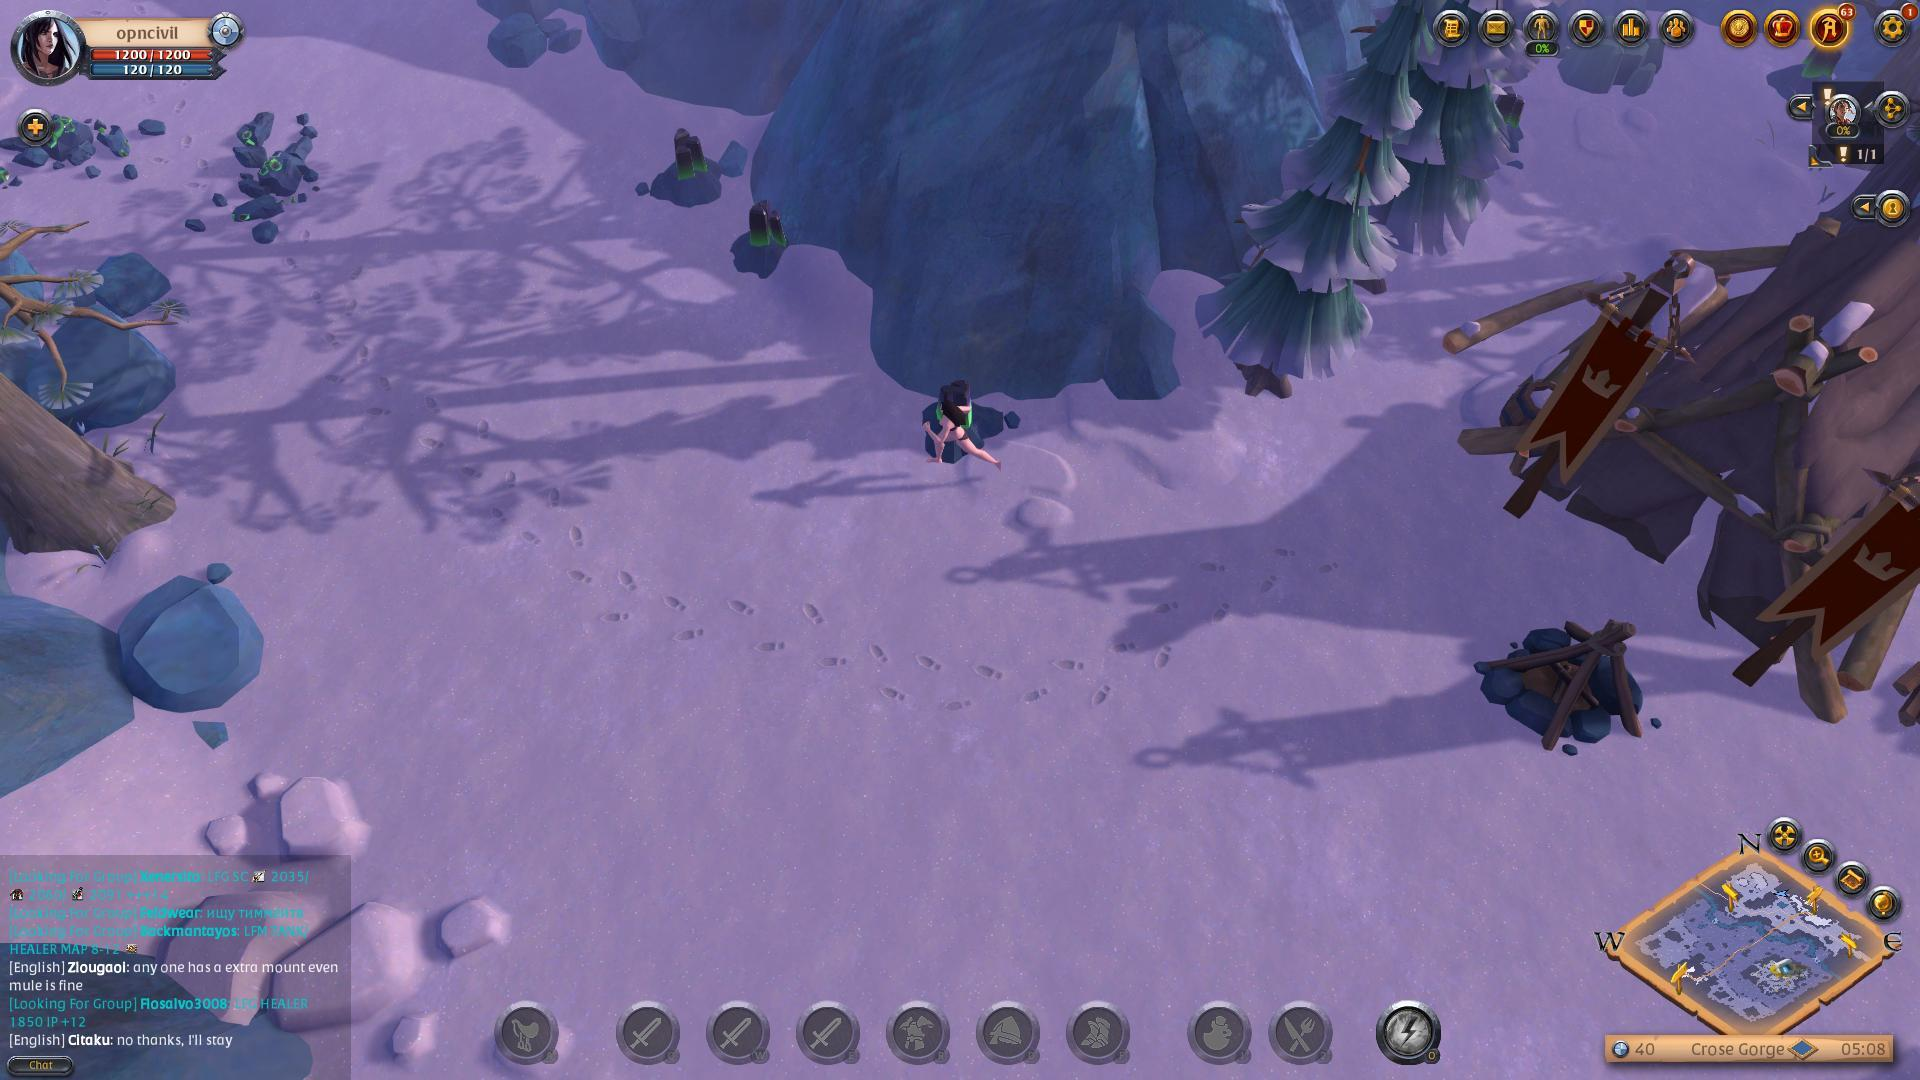tin_ore: (646, 127, 732, 212), (732, 198, 798, 281)
